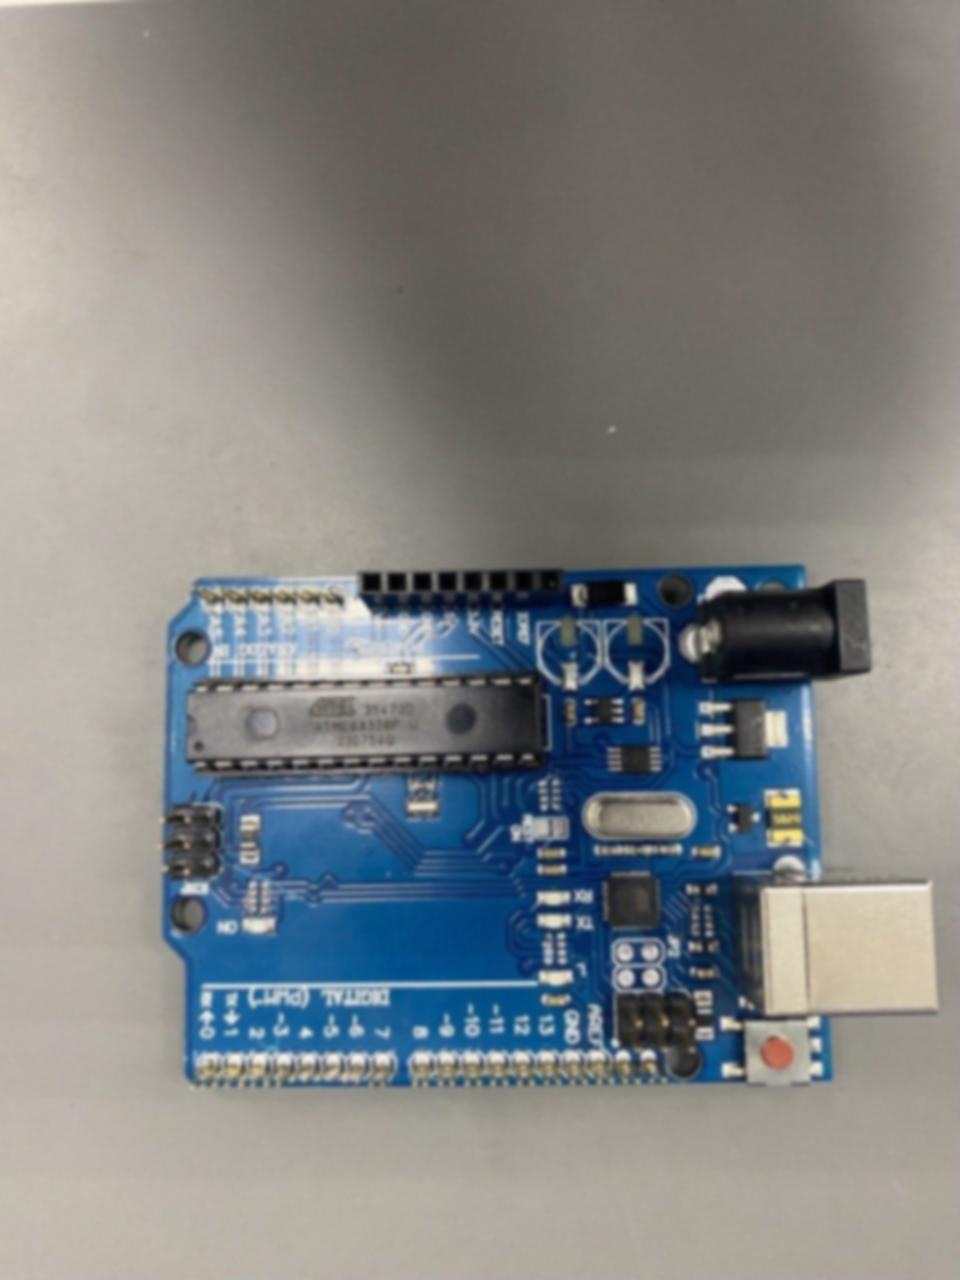ATmega328 chip: (185, 669, 543, 780)
Arduino board: (158, 564, 941, 1092)
USB: (731, 869, 940, 1019)
pins: (357, 566, 564, 610)
